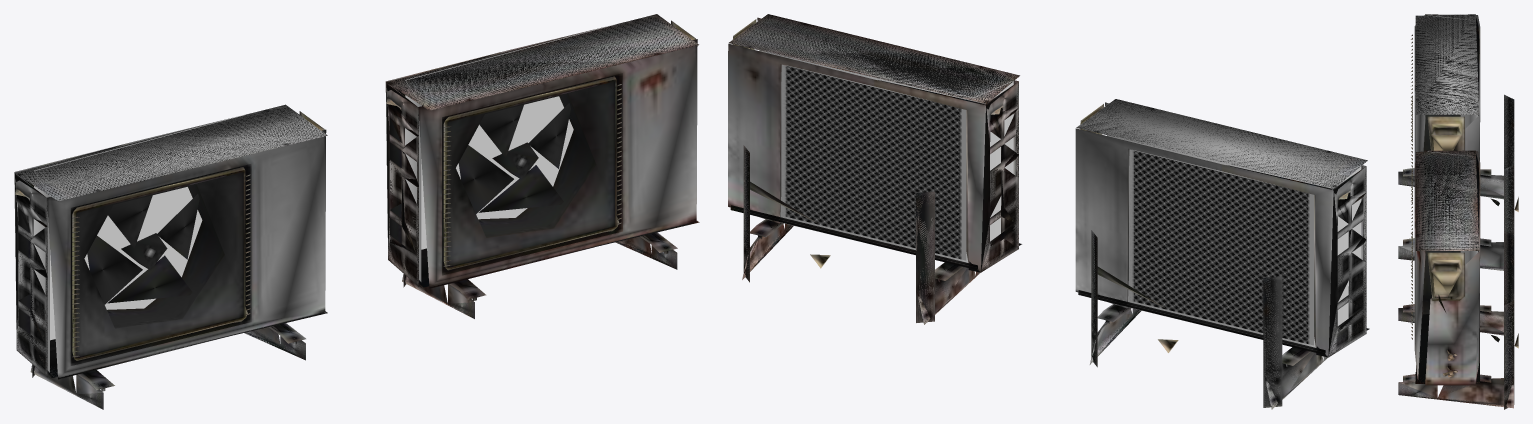
Rendered from exterior_aircon_unit.glb.
3 views of the same model, side by side, from view 1: azimuth 30°, elevation 25°; view 2: azimuth 150°, elevation 25°; view 3: azimuth 270°, elevation 25° (orthographic). The views are drawn at different scales.
Parts seen in each view (by area): view 1: exterior_aircon_unit_rusted, exterior_aircon_unit; view 2: exterior_aircon_unit, exterior_aircon_unit_rusted; view 3: exterior_aircon_unit_rusted, exterior_aircon_unit.
Boxes of the visible parts, x1,y1,x2,y2 form: exterior_aircon_unit_rusted: [385, 14, 699, 318]; exterior_aircon_unit: [14, 104, 327, 409]; exterior_aircon_unit: [1075, 99, 1369, 409]; exterior_aircon_unit_rusted: [728, 14, 1021, 324]; exterior_aircon_unit_rusted: [1398, 150, 1518, 409]; exterior_aircon_unit: [1398, 14, 1518, 270].
Bounding box in the file's own units: 1.8 × 0.5876 × 0.3742.
4 materials, 4 textured.
